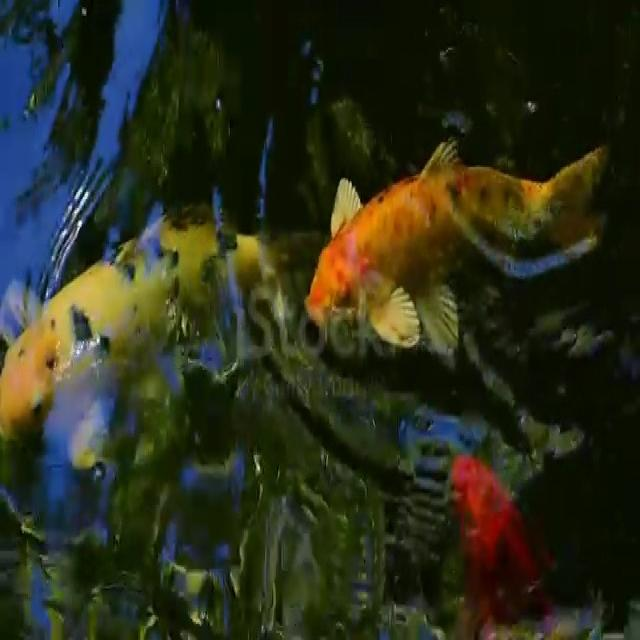fish: (0, 193, 319, 487), (305, 134, 616, 368), (439, 437, 568, 640)
